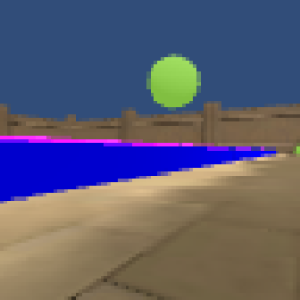goodGoal: (146, 52, 202, 110), (293, 142, 300, 158)
platform: (1, 146, 271, 199)
ramp: (2, 132, 187, 146)
